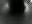person: (23, 1, 32, 18), (5, 4, 10, 15)
